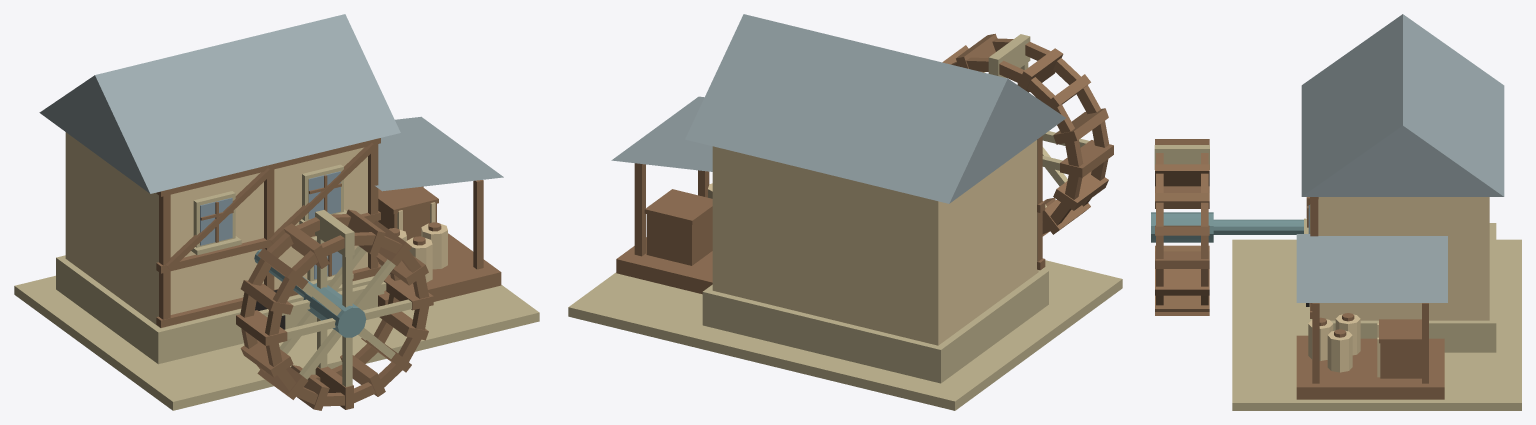
The model's file is era2-river-mill-Cy6nhL7m.glb.
The picture shows the model from 3 angles, left to right: view 1: azimuth 30°, elevation 25°; view 2: azimuth 150°, elevation 25°; view 3: azimuth 270°, elevation 25°; orthographic projection. The views are drawn at different scales.
Visible parts, largest first — view 1: RM_GabledRoof, RM_Wheel, RM_Millhouse, RM_Yard, RM_StoneBase, RM_PorchRoof, RM_LoadingPorch, RM_TimberPost, RM_TimberRail.002, RM_TimberRail.001, RM_TimberRail, RM_Brace (+12 smaller); view 2: RM_Millhouse, RM_GabledRoof, RM_Yard, RM_StoneBase, RM_Wheel, RM_PorchRoof, RM_FlourChestBody, RM_LoadingPorch, RM_FlourChestLid, RM_PorchPost, RM_TimberPost; view 3: RM_GabledRoof, RM_Yard, RM_Millhouse, RM_PorchRoof, RM_Wheel, RM_LoadingPorch, RM_StoneBase, RM_FlourChestBody, RM_Axle, RM_FlourChestLid, RM_FlourSack.001, RM_PorchPost.001 (+4 smaller).
Boxes of the visible parts, x1,y1,x2,y2 form: RM_GabledRoof: [39, 14, 400, 193]; RM_Wheel: [236, 209, 433, 410]; RM_Millhouse: [65, 132, 373, 328]; RM_Yard: [14, 275, 539, 410]; RM_StoneBase: [56, 255, 384, 364]; RM_PorchRoof: [375, 116, 503, 191]; RM_LoadingPorch: [378, 233, 501, 306]; RM_TimberPost: [159, 194, 170, 319]; RM_TimberRail.002: [156, 138, 380, 196]; RM_TimberRail.001: [156, 211, 380, 273]; RM_TimberRail: [156, 265, 380, 327]; RM_Brace: [165, 168, 272, 269]; RM_Millhouse: [712, 140, 1038, 345]; RM_GabledRoof: [685, 14, 1065, 203]; RM_Yard: [568, 260, 1122, 410]; RM_StoneBase: [702, 269, 1048, 383]; RM_Wheel: [942, 33, 1113, 236]; RM_PorchRoof: [611, 96, 712, 171]; RM_FlourChestBody: [646, 210, 712, 265]; RM_LoadingPorch: [616, 237, 712, 294]; RM_FlourChestLid: [644, 189, 712, 224]; RM_PorchPost: [634, 163, 645, 256]; RM_TimberPost: [1037, 136, 1042, 261]; RM_GabledRoof: [1301, 14, 1504, 196]; RM_Yard: [1232, 239, 1521, 410]; RM_Millhouse: [1318, 197, 1489, 320]; RM_PorchRoof: [1296, 234, 1447, 302]; RM_Wheel: [1151, 139, 1213, 315]; RM_LoadingPorch: [1296, 335, 1444, 399]; RM_StoneBase: [1309, 223, 1496, 352]; RM_FlourChestBody: [1380, 343, 1421, 378]; RM_Axle: [1213, 219, 1303, 234]; RM_FlourChestLid: [1379, 319, 1421, 343]; RM_FlourSack.001: [1327, 331, 1352, 372]; RM_PorchPost.001: [1312, 303, 1319, 383].
Bounding box in the file's own units: 12 × 8.25 × 11.53.
